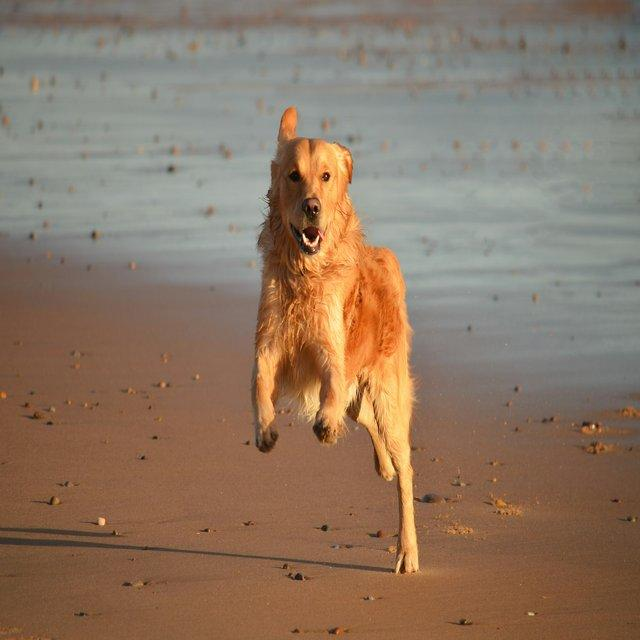retriever: (250, 105, 420, 574)
